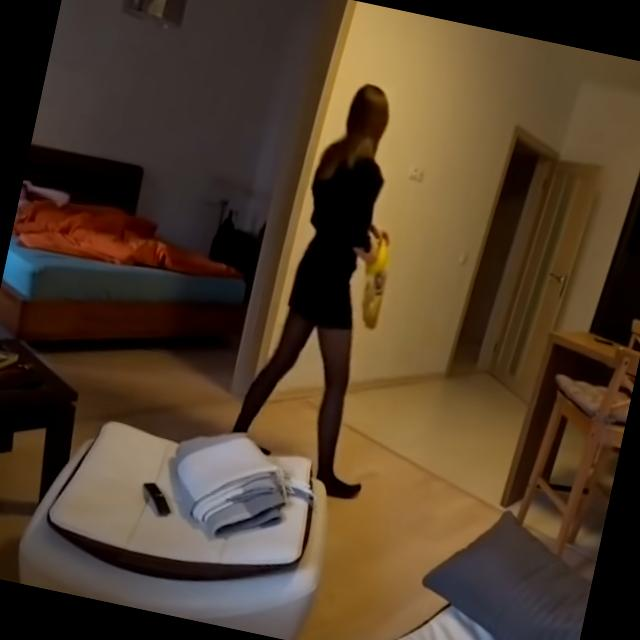person: (220, 71, 442, 503)
